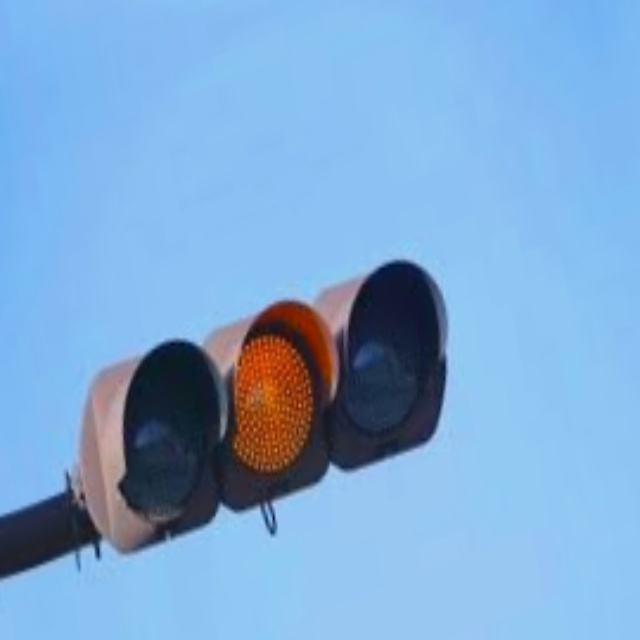yellow_light: (208, 319, 333, 494)
